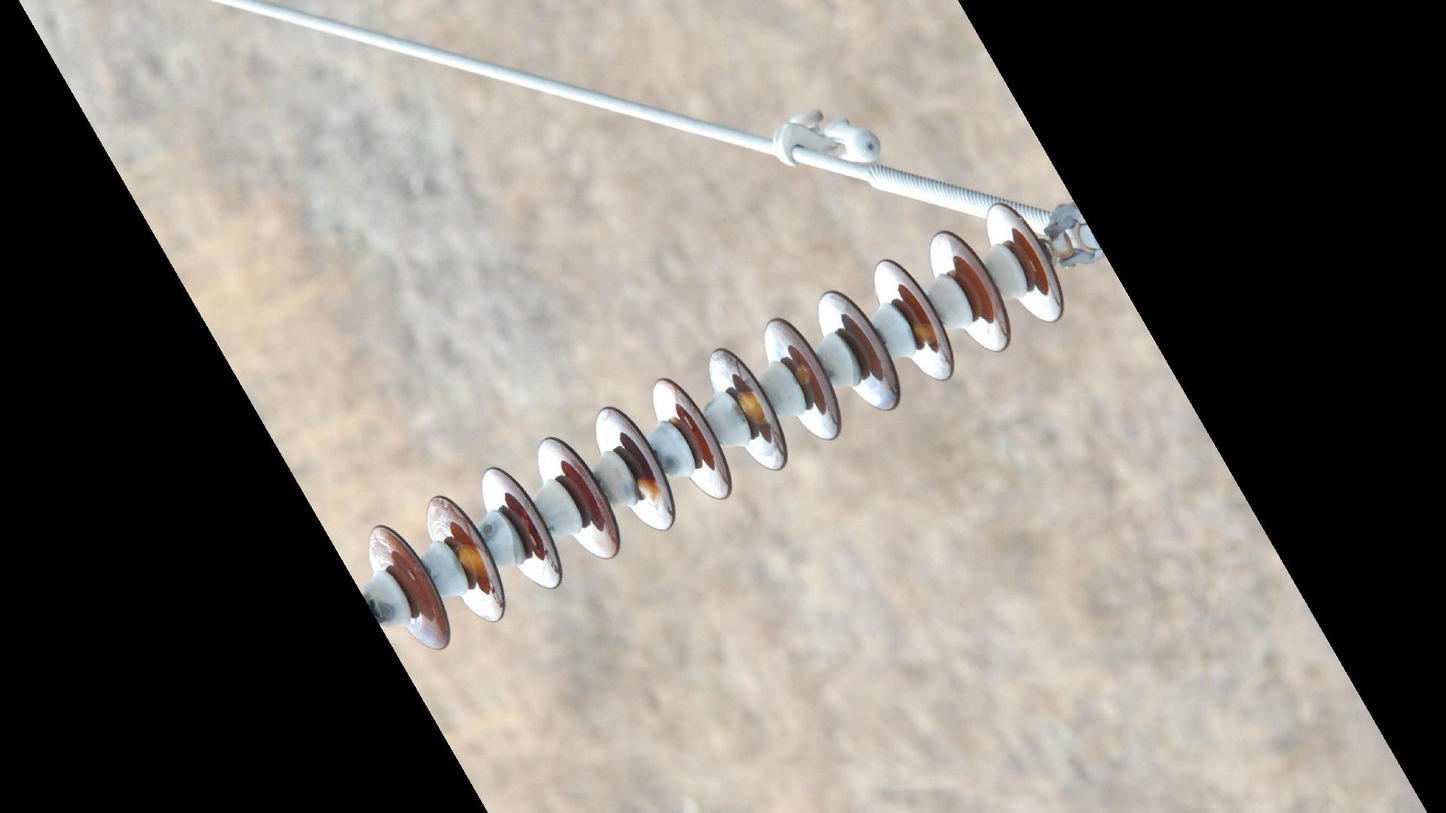insulator: (364, 197, 1072, 656)
insulator_flashover: (735, 388, 776, 429), (455, 541, 497, 581), (635, 475, 670, 510), (908, 318, 945, 349), (793, 361, 816, 389)
